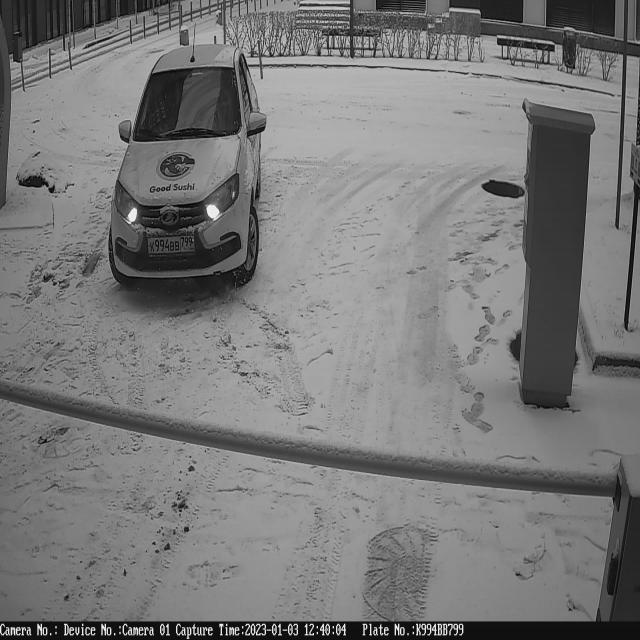car-plate-numbers: (147, 233, 198, 261)
